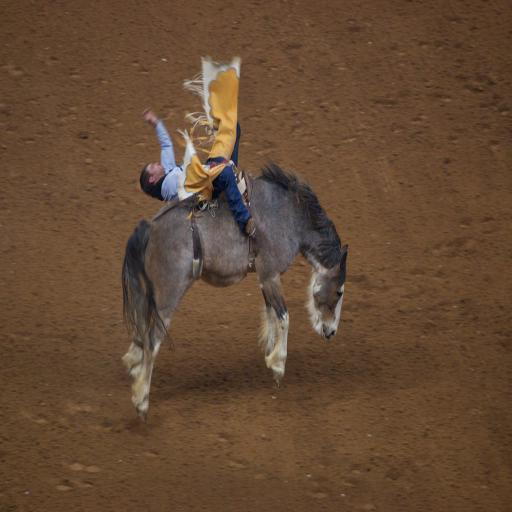horse: (122, 154, 350, 427)
